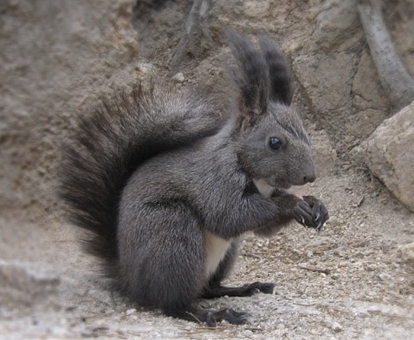chungseolmo: (80, 35, 331, 327)
